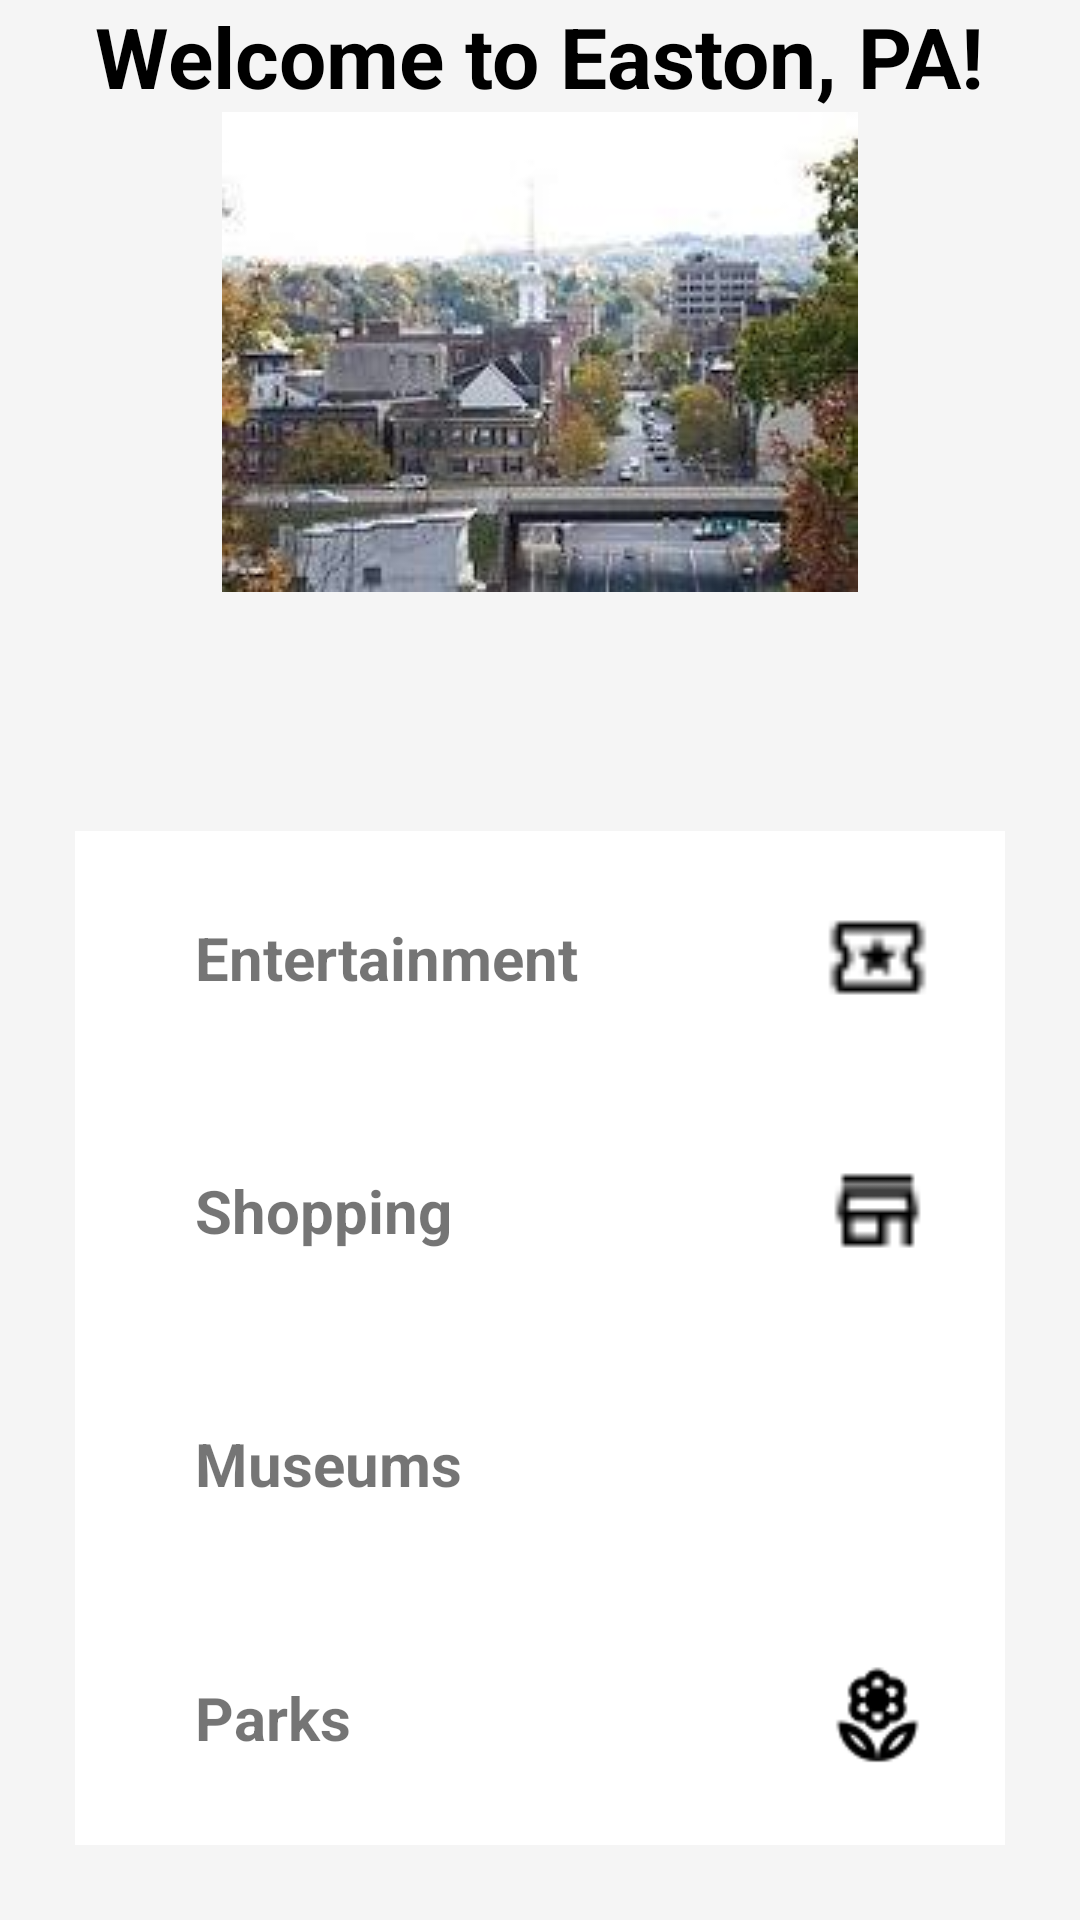

Screen size 1080px x 1920px. Icon name, then its center in pixels as (x=x, y=y):
local florist: (x=877, y=1714)
local play: (x=877, y=957)
store mall directory: (x=877, y=1210)
